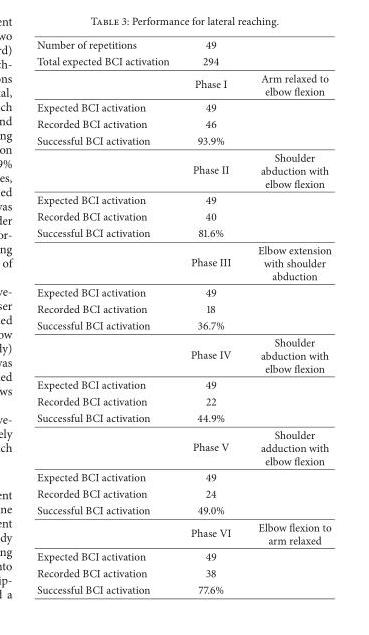table: (36, 36, 330, 596)
table column: (36, 36, 179, 596), (243, 36, 330, 596), (179, 36, 243, 596)
table row: (36, 148, 330, 191), (36, 333, 330, 376), (36, 425, 330, 468), (36, 241, 330, 283), (36, 518, 330, 548), (36, 69, 330, 98), (36, 52, 330, 69), (36, 98, 330, 115), (36, 131, 330, 148), (36, 207, 330, 224), (36, 224, 330, 241), (36, 283, 330, 300), (36, 316, 330, 333), (36, 392, 330, 409), (36, 484, 330, 501), (36, 501, 330, 518), (36, 36, 330, 52), (36, 115, 330, 131), (36, 191, 330, 207), (36, 300, 330, 316), (36, 376, 330, 392), (36, 409, 330, 425), (36, 468, 330, 484), (36, 548, 330, 564), (36, 564, 330, 580), (36, 580, 330, 596)
table spanning cell: (36, 131, 179, 191), (36, 316, 179, 376), (36, 224, 179, 283), (36, 409, 179, 468), (36, 501, 179, 548), (36, 52, 179, 98)
